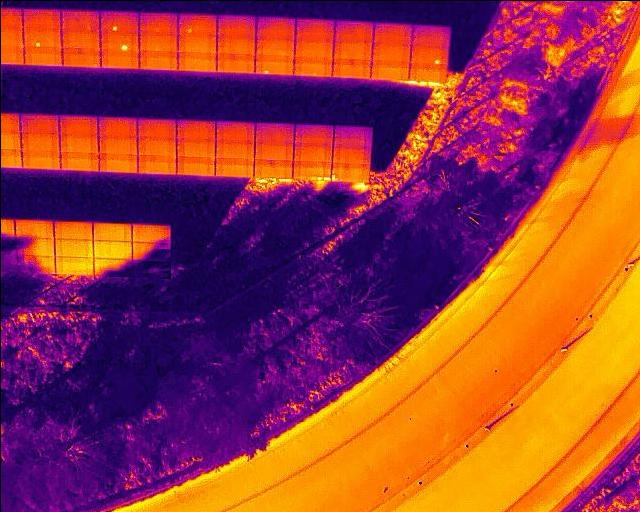Cell: (22, 25, 62, 48), (99, 10, 137, 32), (176, 14, 216, 34), (99, 30, 138, 50), (408, 43, 449, 62), (254, 56, 293, 74)
Cell-Multi: (293, 159, 331, 179), (330, 164, 369, 181)
No-Anomaly: (138, 11, 177, 34), (58, 130, 98, 151), (293, 38, 333, 59), (254, 15, 294, 36), (292, 122, 333, 142), (16, 112, 57, 132), (215, 34, 256, 54), (137, 50, 177, 70), (334, 20, 372, 41), (215, 137, 254, 157), (371, 39, 410, 59), (60, 29, 99, 49), (136, 153, 175, 173), (19, 149, 60, 168), (17, 130, 58, 149), (91, 223, 132, 242), (51, 219, 92, 238), (60, 150, 98, 170), (175, 138, 215, 157), (176, 52, 216, 71), (99, 49, 139, 68), (59, 47, 99, 66), (411, 24, 449, 44), (372, 20, 412, 39), (98, 152, 137, 171), (332, 145, 371, 164), (332, 125, 371, 144), (370, 59, 409, 78), (294, 20, 333, 39), (21, 8, 60, 27), (53, 237, 92, 256), (61, 9, 98, 29), (175, 119, 216, 137), (21, 47, 62, 65), (214, 15, 255, 33), (293, 141, 331, 160), (255, 37, 293, 56), (332, 59, 372, 77), (137, 33, 177, 51), (176, 33, 216, 51), (253, 159, 293, 177), (52, 256, 94, 273), (253, 140, 292, 158), (216, 53, 255, 71), (332, 40, 371, 58), (214, 157, 253, 175), (99, 134, 137, 152), (293, 59, 333, 76), (409, 62, 446, 80), (254, 123, 293, 140), (215, 120, 254, 137), (174, 156, 215, 172), (137, 136, 175, 153), (92, 241, 132, 257), (136, 119, 175, 135), (97, 118, 137, 133), (57, 115, 97, 130)
Shadowing: (12, 219, 52, 239), (92, 257, 132, 276), (131, 240, 170, 259), (13, 254, 54, 272), (132, 258, 171, 276), (14, 238, 53, 256), (131, 224, 170, 242)
